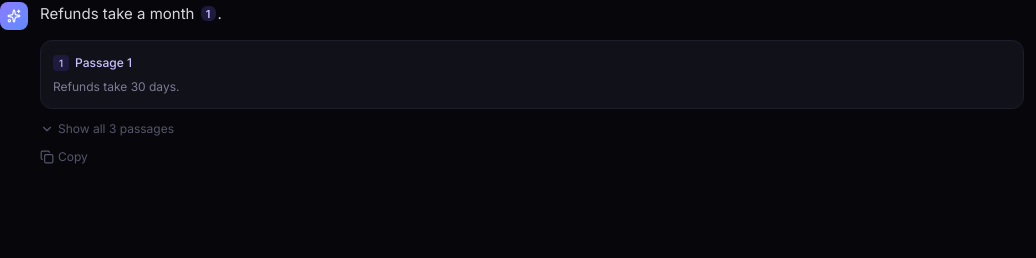
Test case: <Answer> › shows only the passages the answer cites, with a way to show the rest
Expected: the text "Refunds take 30 days." is shown, [53,78,180,94]
Expected: the text "Shipping is free over $50." is not shown
Click the button "Show all 3 passages". click: (107, 129)
box: [40,121,174,137]
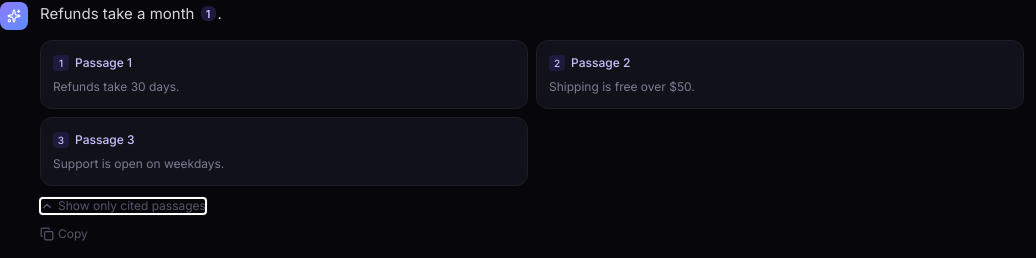
Expected: the text "Shipping is free over $50." is shown, [549,78,695,94]
Expected: the text "Support is open on weekdays." is shown, [53,156,224,170]
